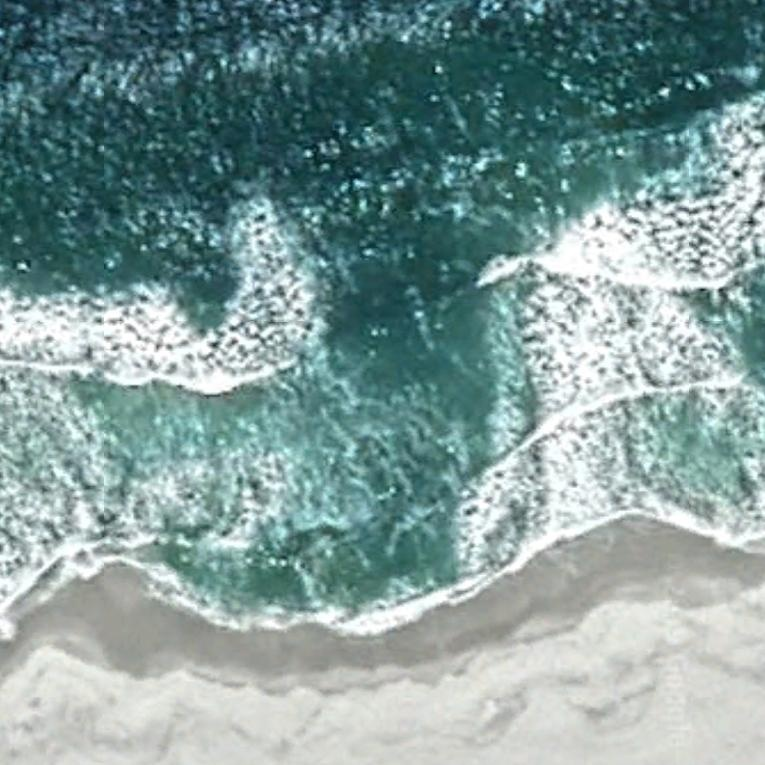rip_current: (188, 170, 564, 558)
